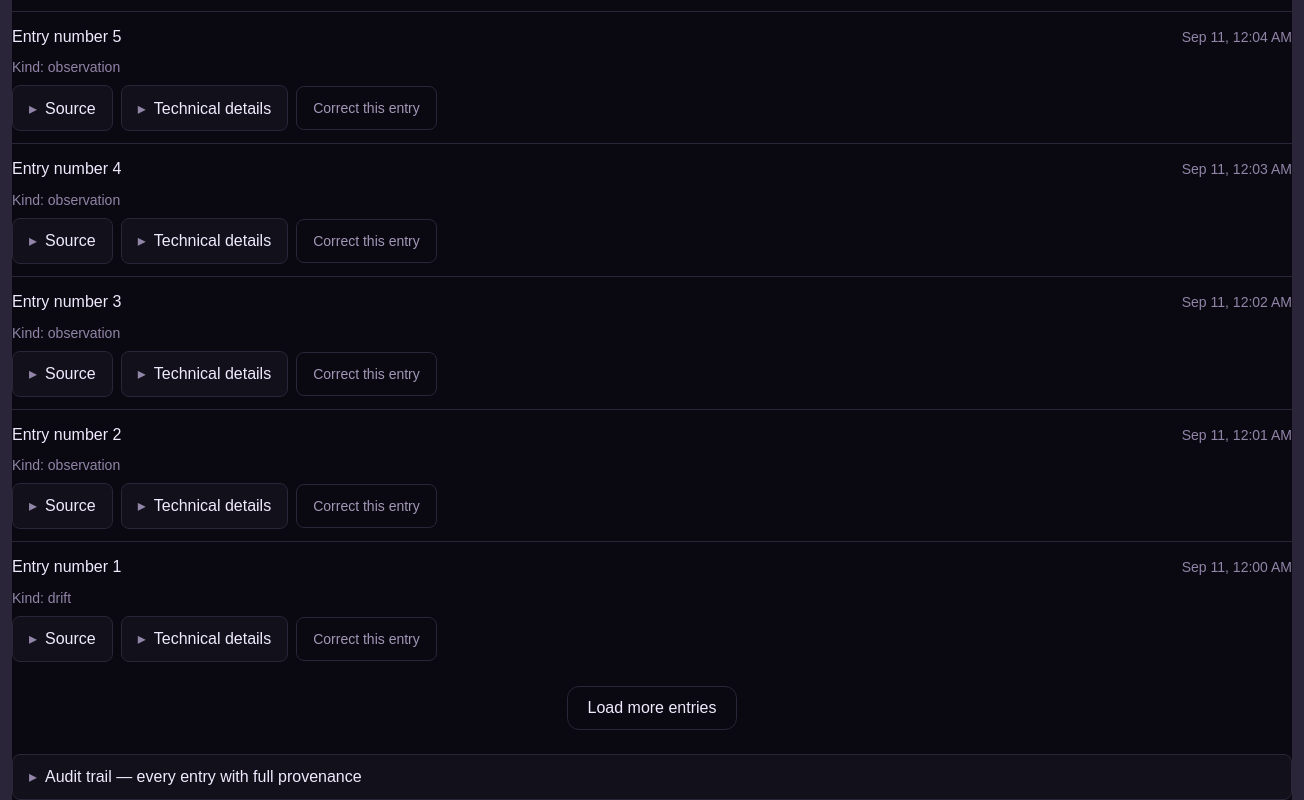
Test case: JournalScreen (T10, parity row 4) › audit trail: collapsed by default (zero extra fetch), loads verbatim on request
(page scrolled)
# Open the disclosure, then request the technical log.
What coordinates should you click on to do the following:
click the text "Audit trail — every entry with full provenance"
I would click on:
 (203, 777)
Its box is [45,764,362,790].
(page scrolled)
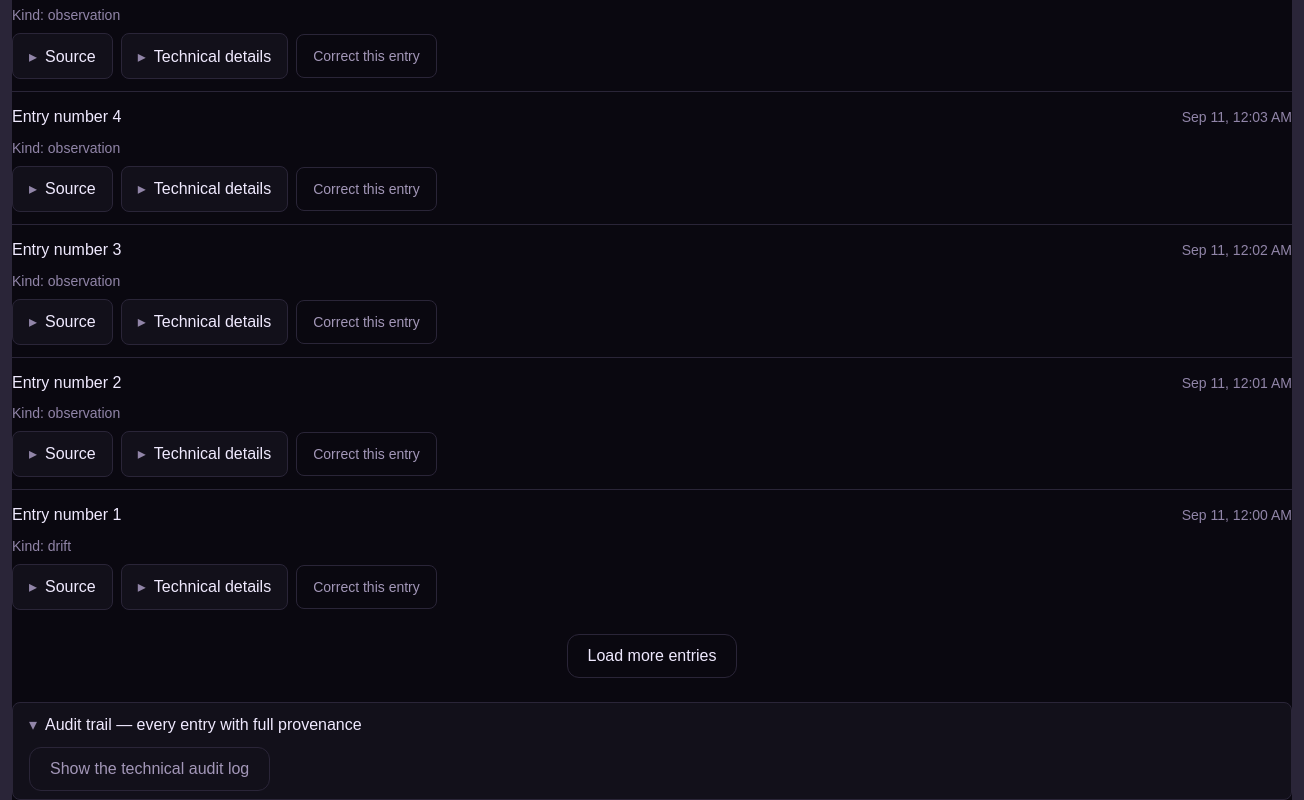
What coordinates should you click on to do the following:
click the button "Show the technical audit log"
I would click on:
 (150, 769)
Its box is [29,747,270,791].
(page scrolled)
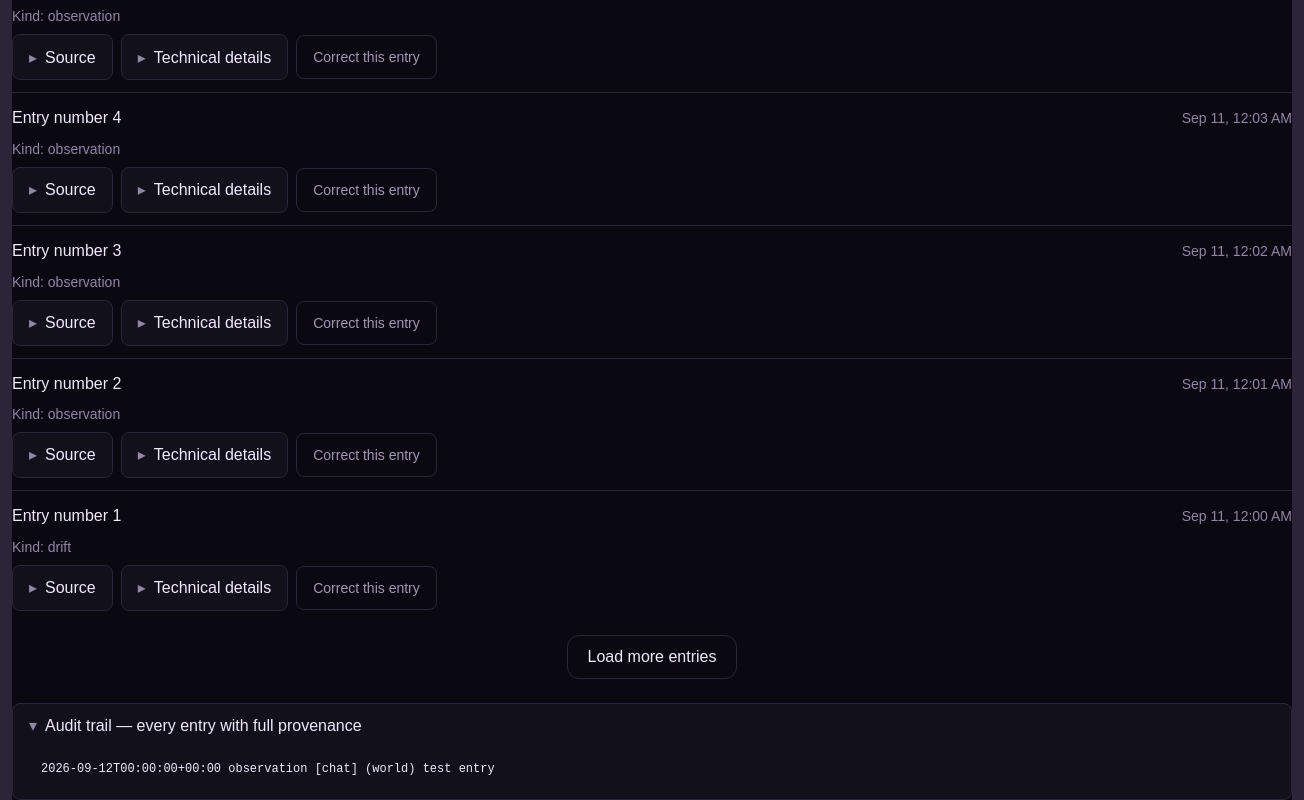
expect the text "observation [chat] (world)" is shown: met, box [41,762,495,776]
